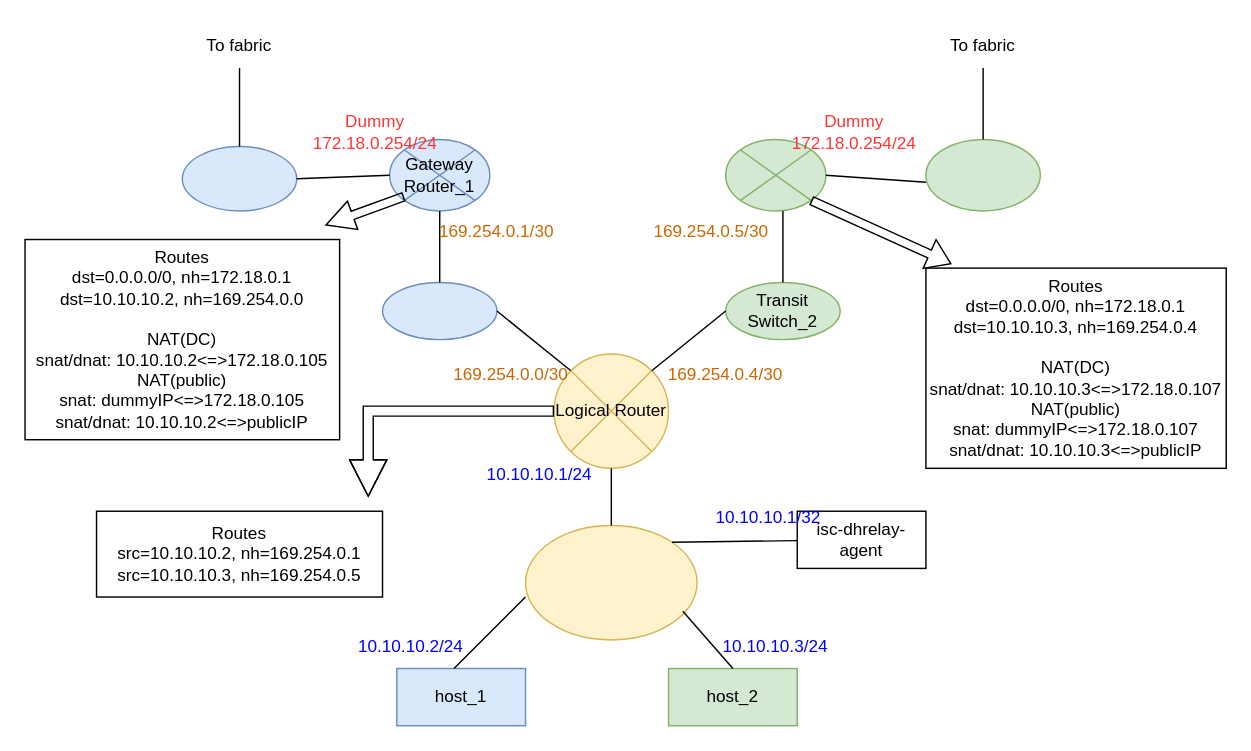
The diagram is 1251 pixels wide and 751 high, and some of its shapes have lost their labels. Here are the shapes that lost their labels. From the top down, the centre of each, then its label:
At pixel 239 178: "Public Switch_1".
At pixel 775 174: "Gateway Router_2".
At pixel 982 174: "Public Switch_2".
At pixel 439 310: "Transit Switch_1".
At pixel 610 582: "Logical Switch".
